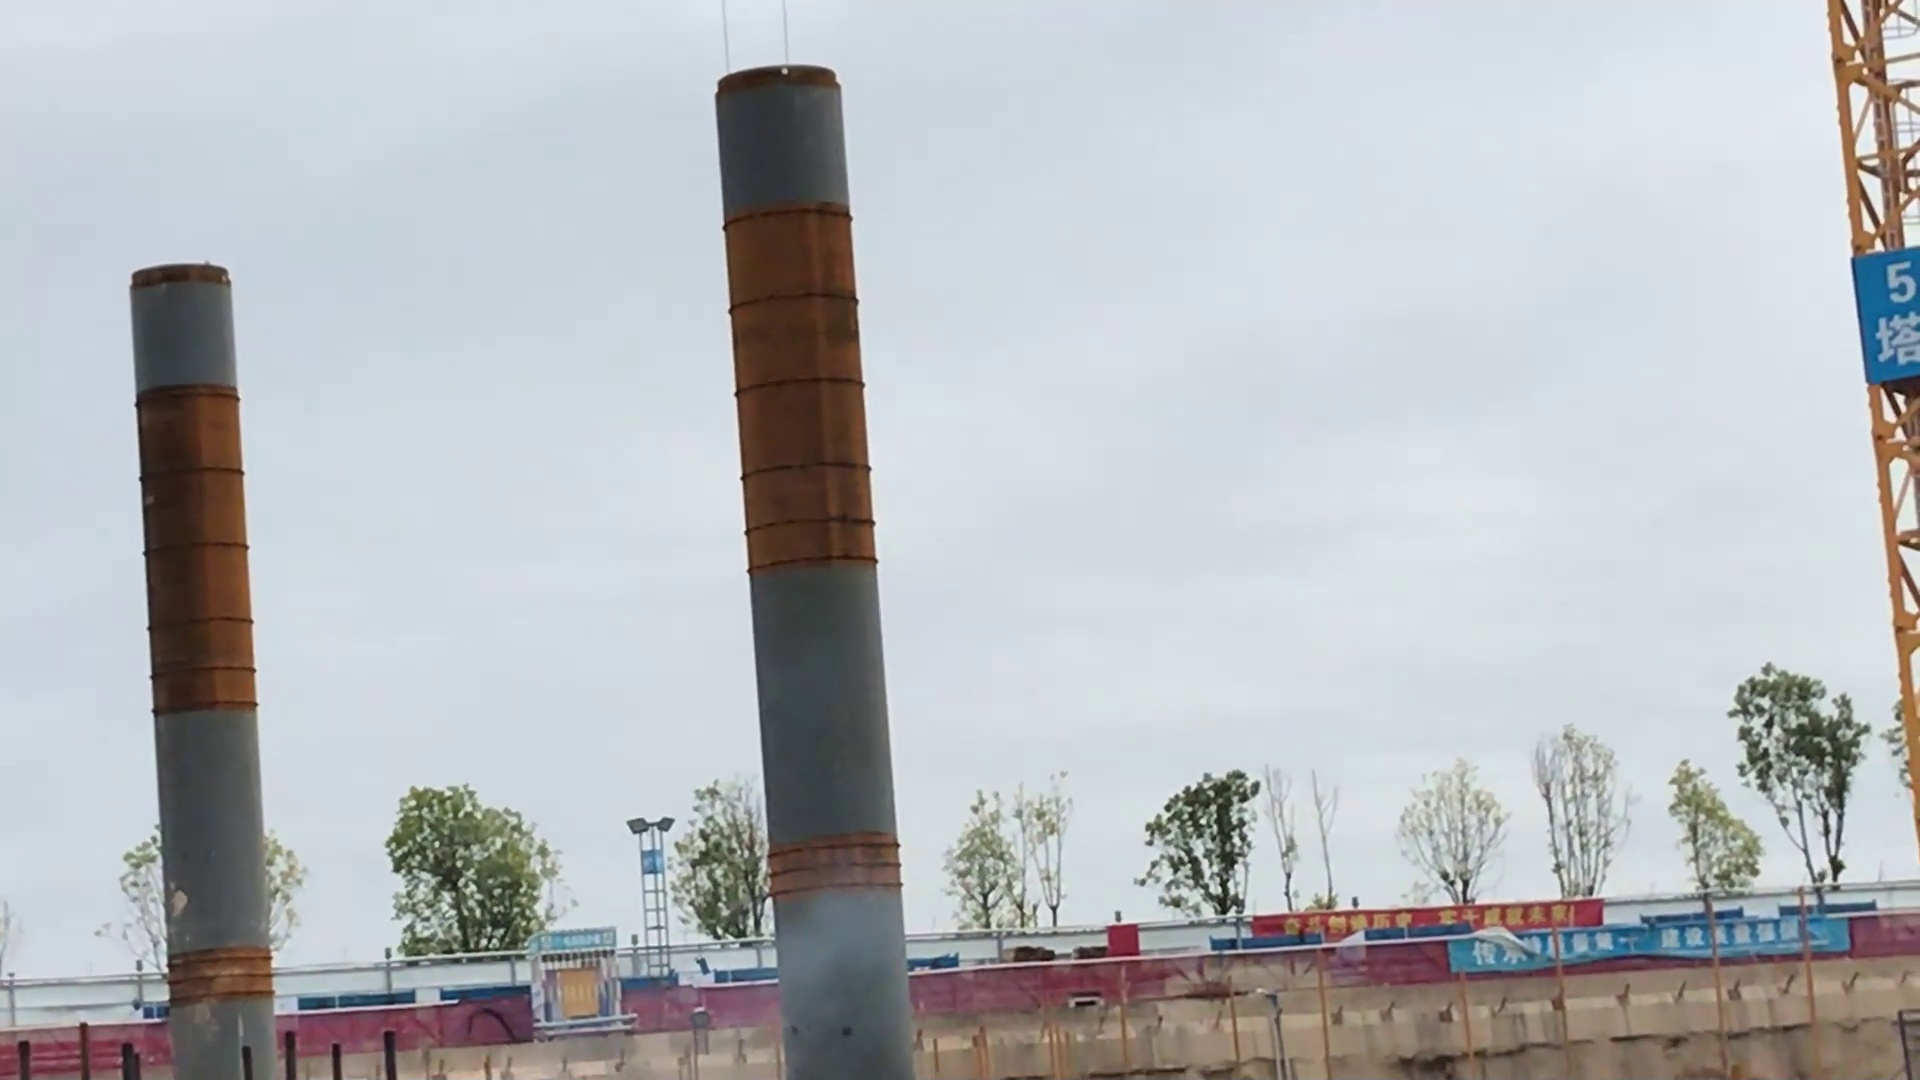ebox: (545, 967, 603, 1019)
slogan: (1451, 915, 1847, 971), (1254, 899, 1604, 944)
